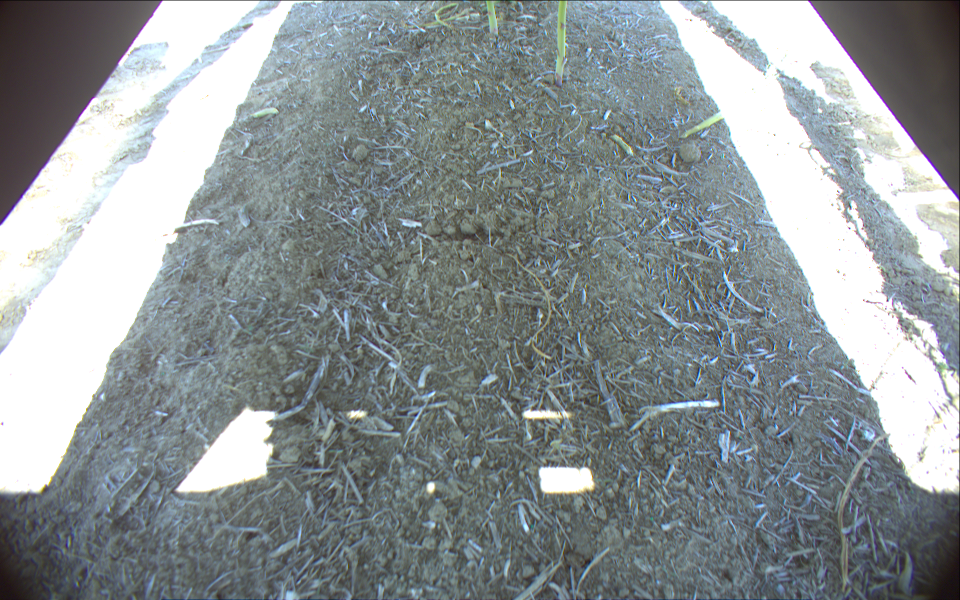aspa: (552, 1, 571, 87), (483, 1, 502, 40)
